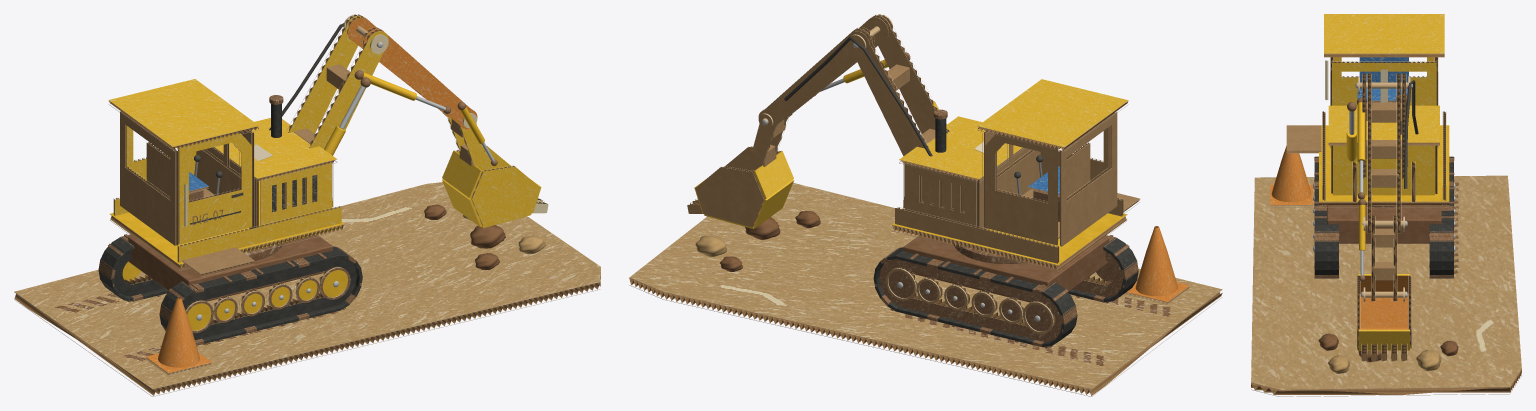
File: 38_cardboard_excavator.glb
3 renders of one model, left to right at view 1: azimuth 30°, elevation 25°; view 2: azimuth 150°, elevation 25°; view 3: azimuth 270°, elevation 25°, orthographic. The views are drawn at different scales.
Parts seen in each view (by area): view 1: artwork_38_cardboard_excavator, yellow, flute, paint_black, kraft, orange, paint_yellow, edge, paint_brown, brown, clay_brown, foil (+2 smaller); view 2: artwork_38_cardboard_excavator, kraft, yellow, brown, flute, edge, paint_black, paint_brown, orange, paint_yellow, clay_brown, rubber (+1 smaller); view 3: artwork_38_cardboard_excavator, yellow, flute, orange, edge, kraft, paint_yellow, paint_black, paint_brown, brown, blue, clay_sand (+5 smaller).
Part boxes in pixels (x1,y1,x2,y2): artwork_38_cardboard_excavator: (14, 133, 600, 388); yellow: (109, 16, 541, 267); flute: (14, 14, 600, 395); paint_black: (98, 104, 362, 343); kraft: (120, 64, 484, 273); orange: (146, 17, 482, 372); paint_yellow: (110, 72, 484, 330); edge: (14, 14, 600, 396); paint_brown: (128, 235, 332, 301); brown: (98, 70, 497, 345); clay_brown: (424, 204, 505, 269); foil: (196, 42, 494, 320); artwork_38_cardboard_excavator: (629, 183, 1222, 388); kraft: (687, 15, 1139, 334); yellow: (694, 79, 1127, 228); brown: (814, 52, 1138, 348); flute: (629, 14, 1222, 395); edge: (629, 14, 1222, 396); paint_black: (873, 118, 1138, 347); paint_brown: (903, 235, 1108, 302); orange: (753, 203, 1189, 301); paint_yellow: (843, 59, 1127, 265); clay_brown: (720, 211, 820, 272); rubber: (784, 36, 938, 170); artwork_38_cardboard_excavator: (1251, 175, 1521, 389); yellow: (1324, 14, 1444, 350); flute: (1251, 54, 1521, 394); orange: (1270, 146, 1409, 329); edge: (1251, 53, 1521, 396); kraft: (1286, 102, 1401, 280); paint_yellow: (1319, 102, 1449, 250); paint_black: (1314, 103, 1453, 278); paint_brown: (1327, 206, 1441, 243); brown: (1314, 94, 1454, 281); blue: (1357, 57, 1410, 100); clay_sand: (1328, 349, 1441, 373).
Bounding box in the file's own units: 0.688 × 0.3601 × 0.368.
21 materials, 17 textured.
